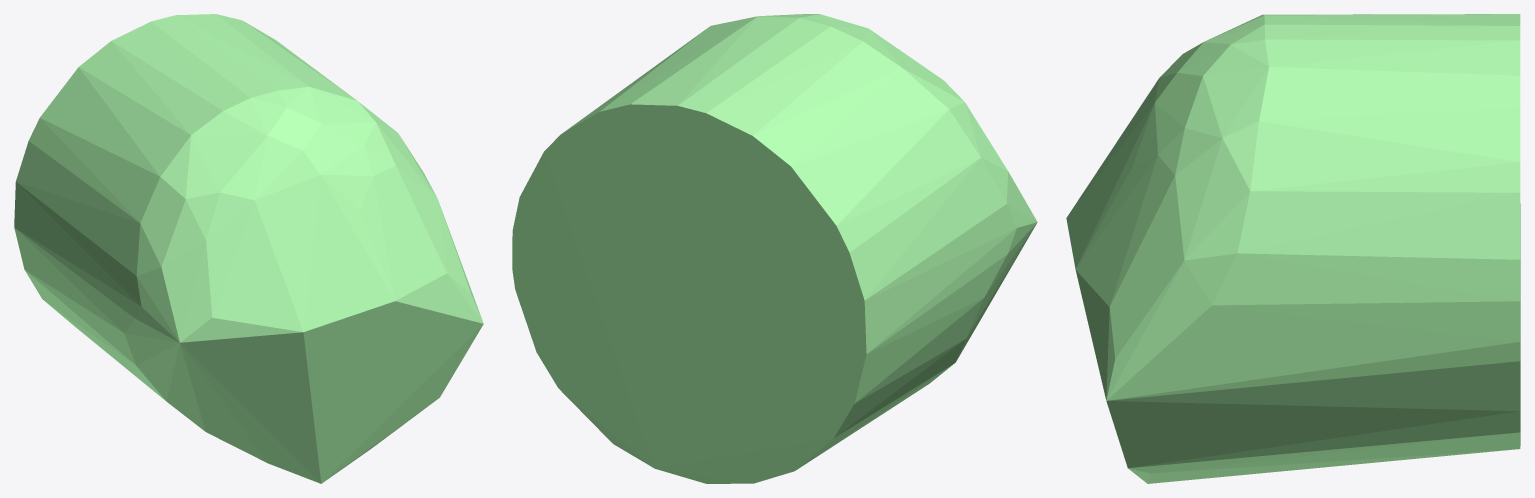
Rendered from panda_link2_resp_coll_2.dae.
3 renders of one model, left to right at view 1: azimuth 30°, elevation 25°; view 2: azimuth 150°, elevation 25°; view 3: azimuth 270°, elevation 25°, orthographic. The views are drawn at different scales.
Parts seen in each view (by area): view 1: node; view 2: node; view 3: node.
Boxes of the visible parts, x1,y1,x2,y2 form: node: [14, 14, 483, 483]; node: [512, 14, 1037, 483]; node: [1066, 14, 1520, 483].
Bounding box in the file's own units: 0.1099 × 0.1219 × 0.1148.
